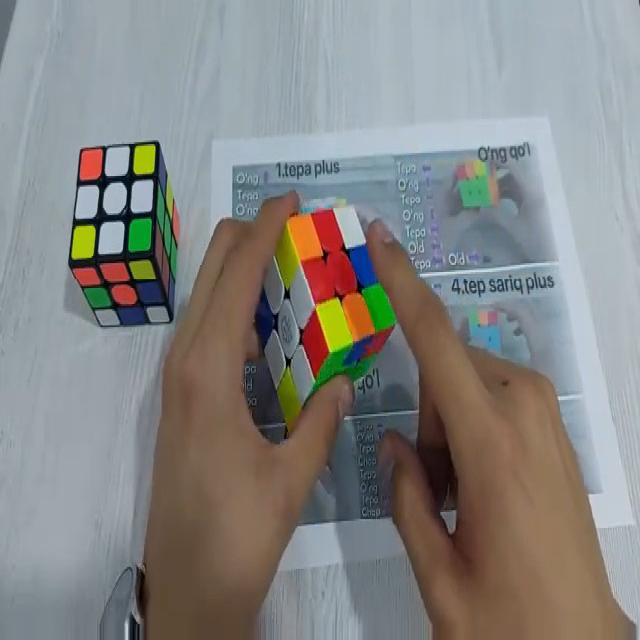Rub: (252, 202, 395, 436), (70, 142, 177, 323)
